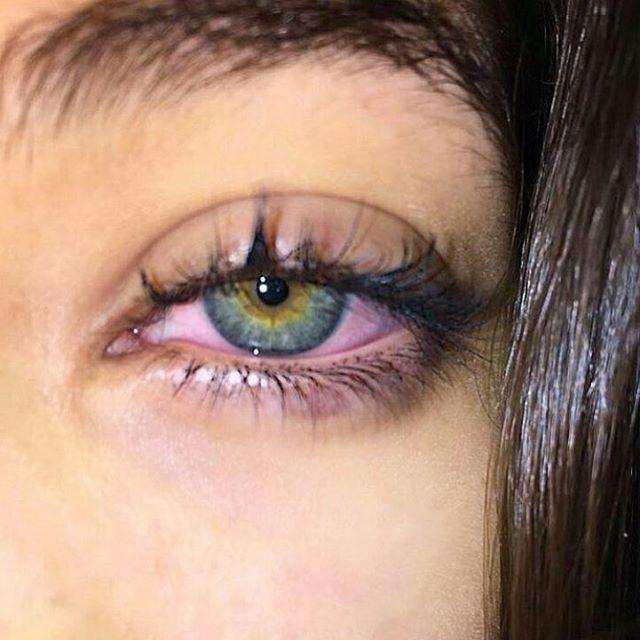gaze: (199, 248, 352, 360)
